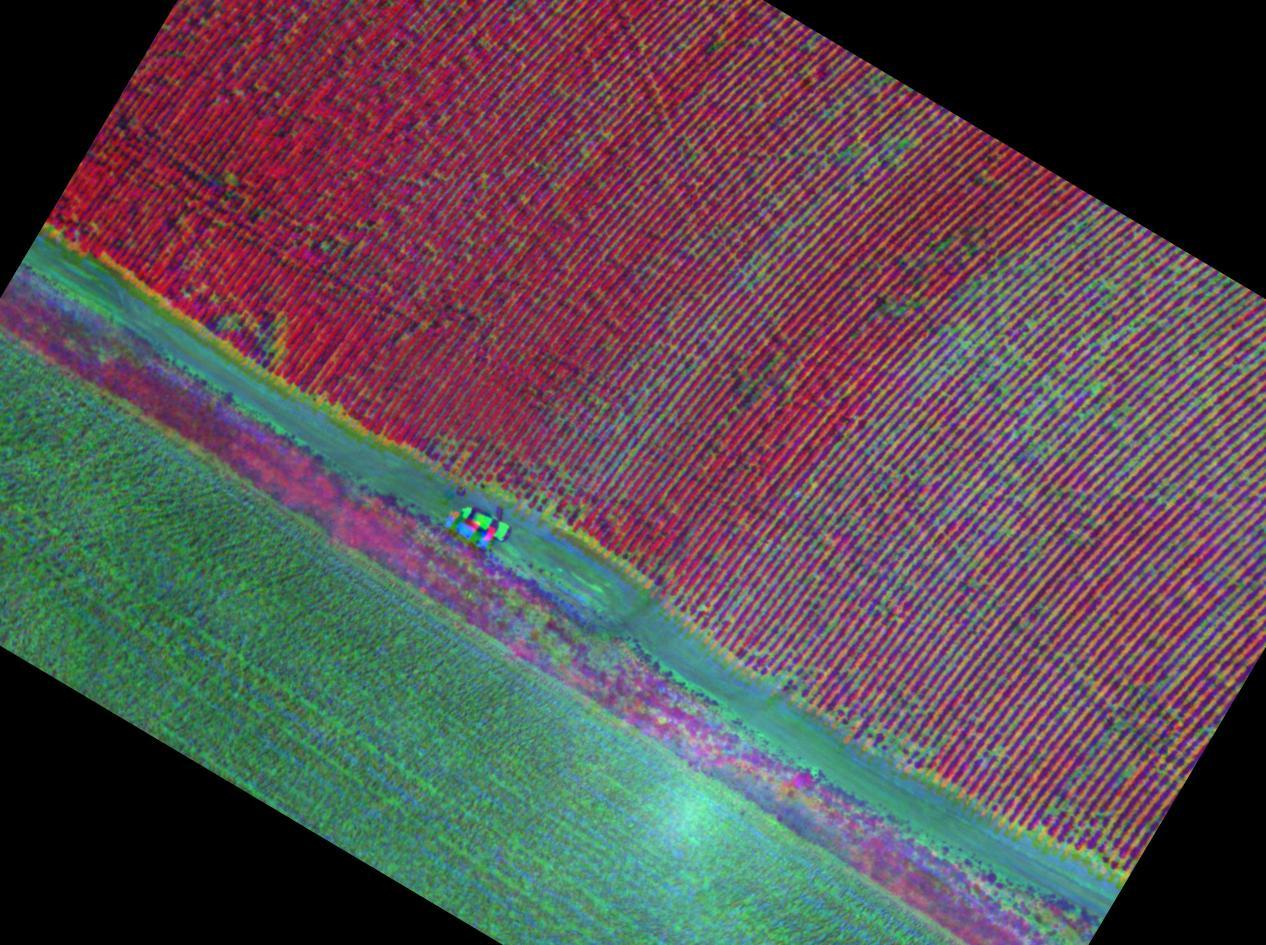dc: (1068, 243, 1193, 401), (946, 285, 1060, 408), (936, 408, 1038, 511), (1081, 413, 1179, 519), (856, 698, 950, 779), (728, 580, 795, 668)
